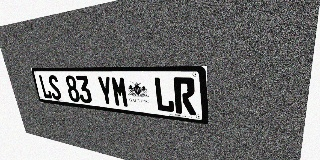3: (76, 75, 93, 104)
8: (64, 75, 81, 102)
L: (153, 77, 175, 113), (38, 75, 53, 99)
M: (110, 76, 130, 108)
R: (173, 77, 196, 115)
S: (47, 75, 62, 100)
Y: (96, 76, 115, 106)
